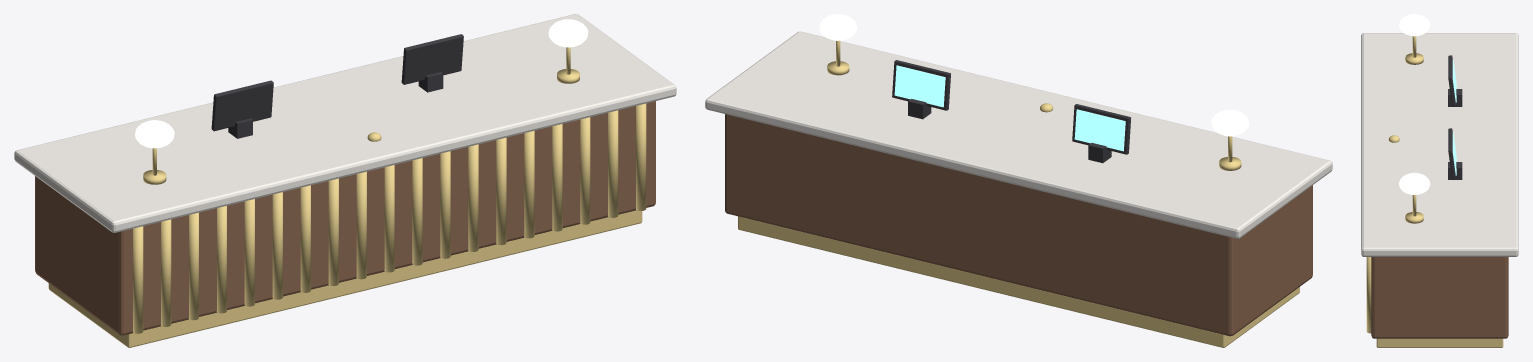
Rendered from hotel_reception_desk.glb.
3 renders of one model, left to right at view 1: azimuth 30°, elevation 25°; view 2: azimuth 150°, elevation 25°; view 3: azimuth 270°, elevation 25°, orthographic. The views are drawn at different scales.
Parts seen in each view (by area): view 1: Plinth; view 2: Plinth; view 3: Plinth.
Part boxes in pixels (x1,y1,x2,y2): Plinth: (14,14,676,347); Plinth: (705,14,1332,347); Plinth: (1361,14,1518,347).
Bounding box in the file's own units: 5.05 × 1.68 × 1.55.
